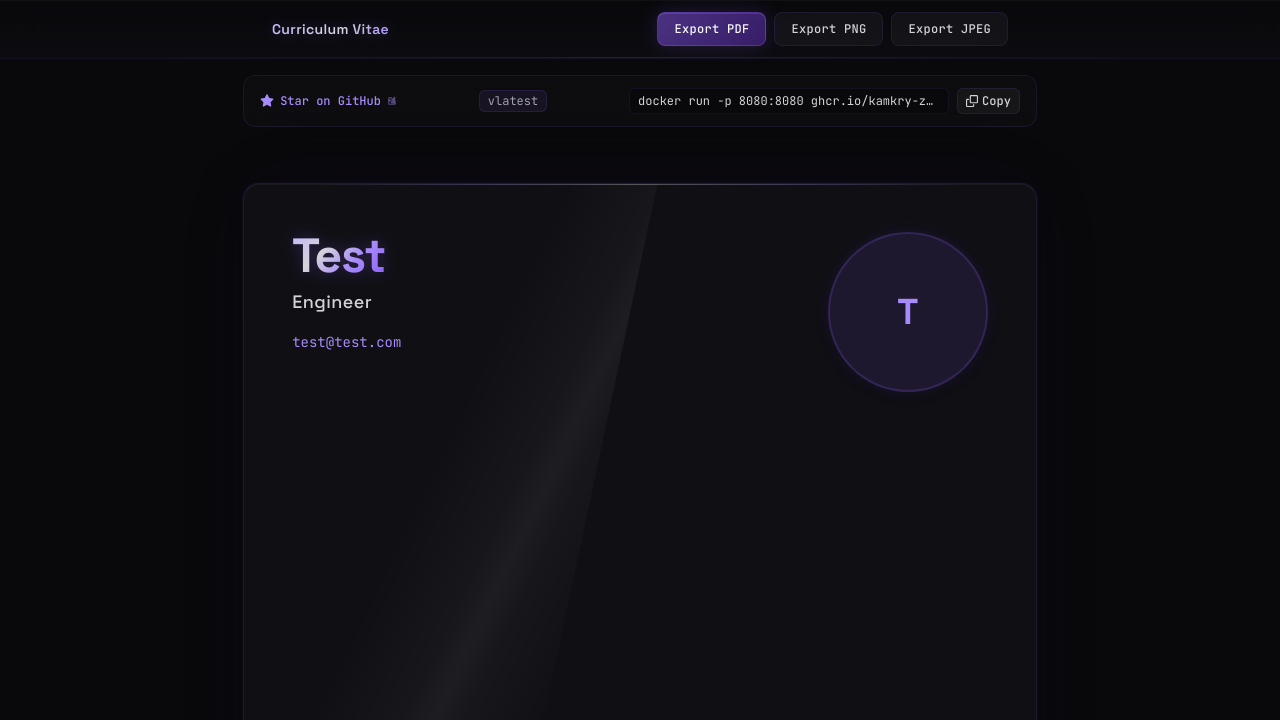
Test: App › shows an error message when export fails
The image size is (1280, 720).
Click the button "Export PDF": (712, 29) [658,12,766,46]
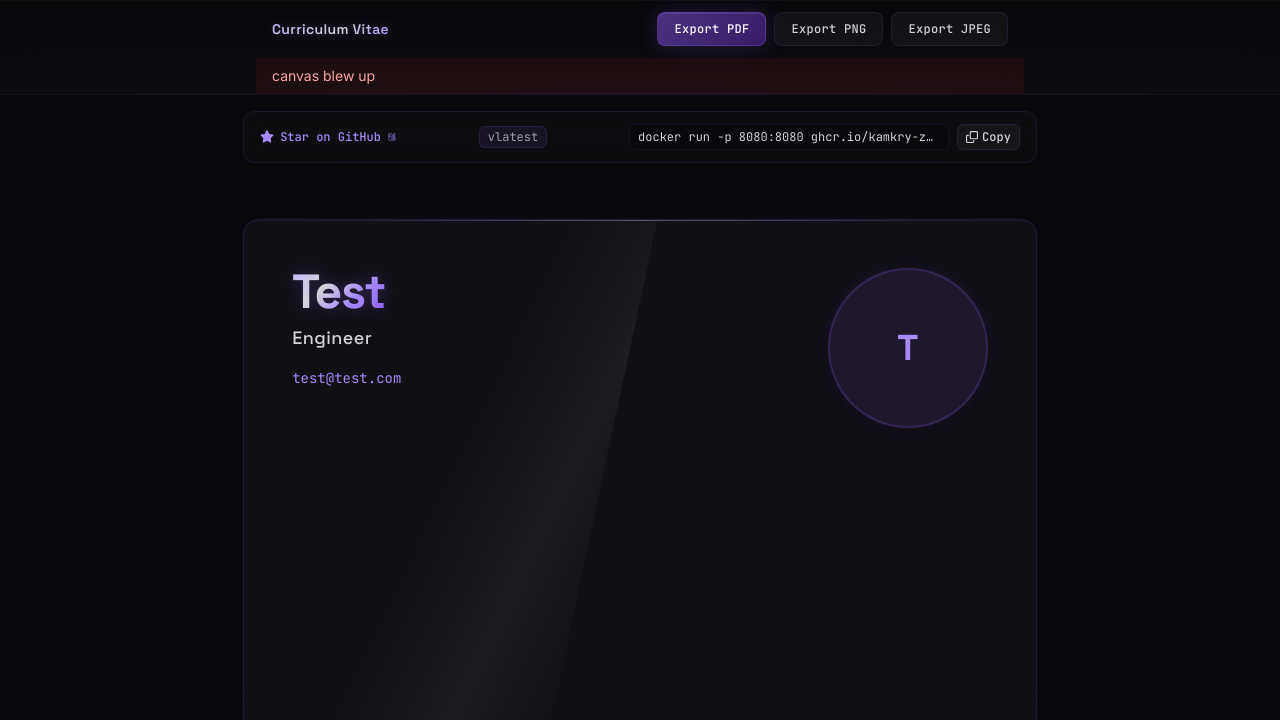
Result: the text "canvas blew up" is shown at [256,58,1024,94]
